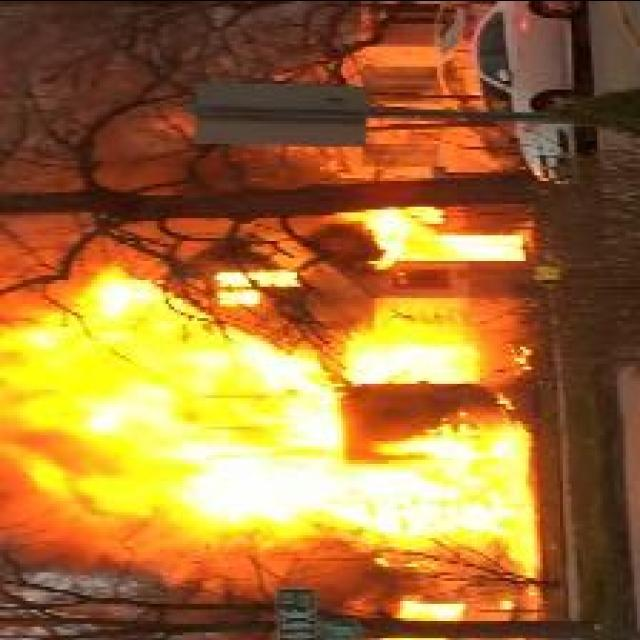Fire: (3, 207, 537, 613)
